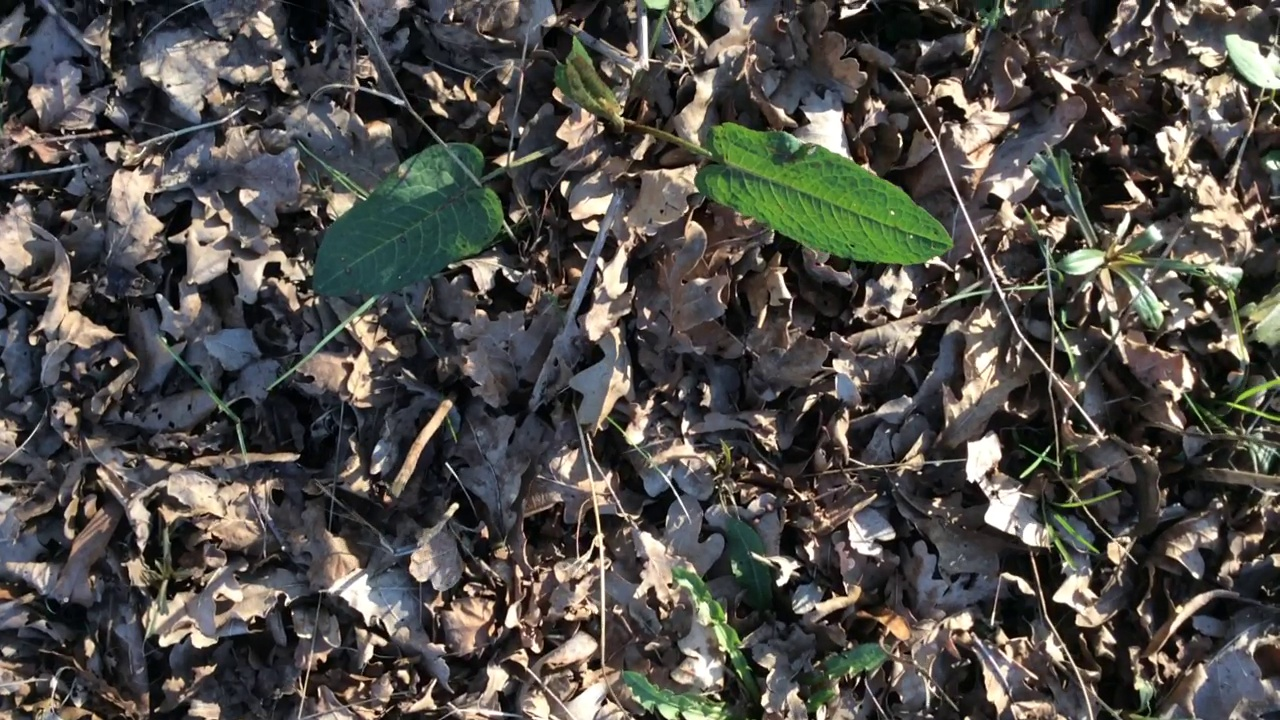rumex: (311, 1, 954, 298)
